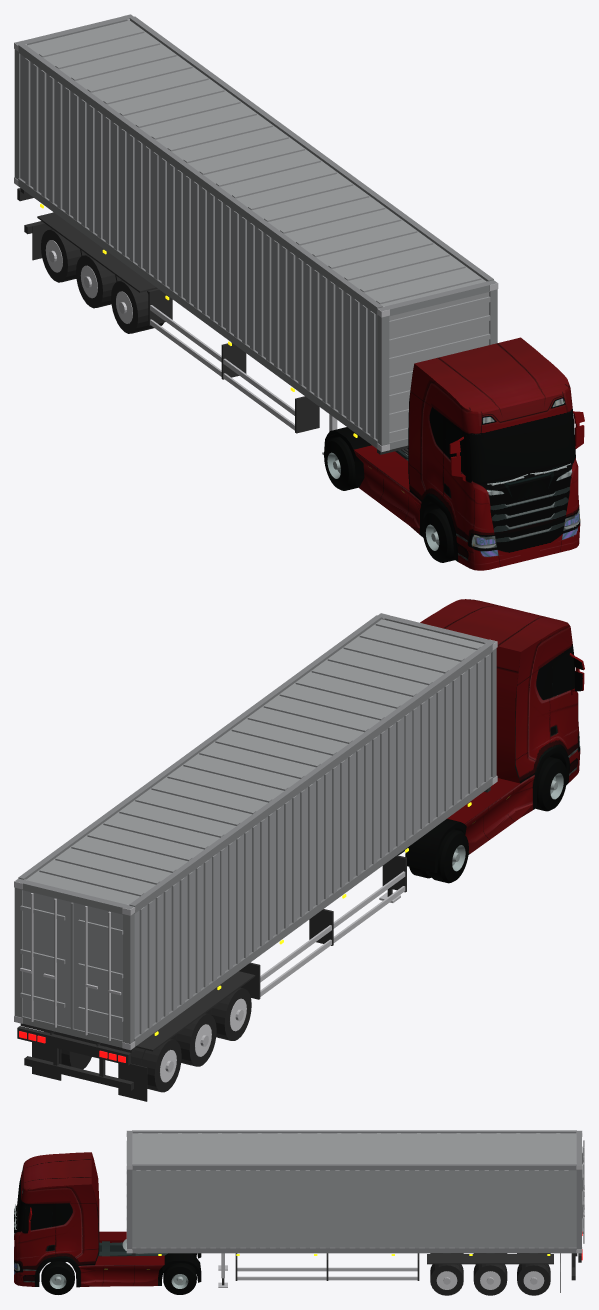
The model's file is semi_container45_grey.glb.
3 renders of one model, top to bottom at view 1: azimuth 30°, elevation 25°; view 2: azimuth 150°, elevation 25°; view 3: azimuth 270°, elevation 25°, orthographic. The views are drawn at different scales.
Parts seen in each view (by area): view 1: trailer_container, Cube.001, trailer_wheels, trailer_chassis, Cube.003, Cube.005; view 2: trailer_container, Cube.001, trailer_chassis, trailer_wheels, Cube.005, Cube.003; view 3: trailer_container, Cube.001, trailer_wheels, trailer_chassis, Cube.006, Cube.004.
Boxes of the visible parts, x1,y1,x2,y2 form: trailer_container: [14, 14, 498, 452]; Cube.001: [324, 337, 584, 570]; trailer_wheels: [37, 212, 164, 333]; trailer_chassis: [17, 188, 408, 454]; Cube.003: [422, 508, 454, 562]; Cube.005: [324, 437, 357, 490]; trailer_container: [14, 613, 497, 1050]; Cube.001: [397, 599, 584, 872]; trailer_chassis: [17, 787, 490, 1101]; trailer_wheels: [44, 971, 255, 1092]; Cube.005: [409, 829, 468, 883]; Cube.003: [535, 756, 566, 811]; trailer_container: [126, 1130, 584, 1253]; Cube.001: [14, 1152, 201, 1287]; trailer_wheels: [427, 1253, 553, 1295]; trailer_chassis: [131, 1231, 582, 1292]; Cube.006: [41, 1261, 74, 1294]; Cube.004: [163, 1263, 196, 1294].
Bounding box in the file's own units: 2.9 × 4.35 × 17.21.
9 materials, 1 textured.
